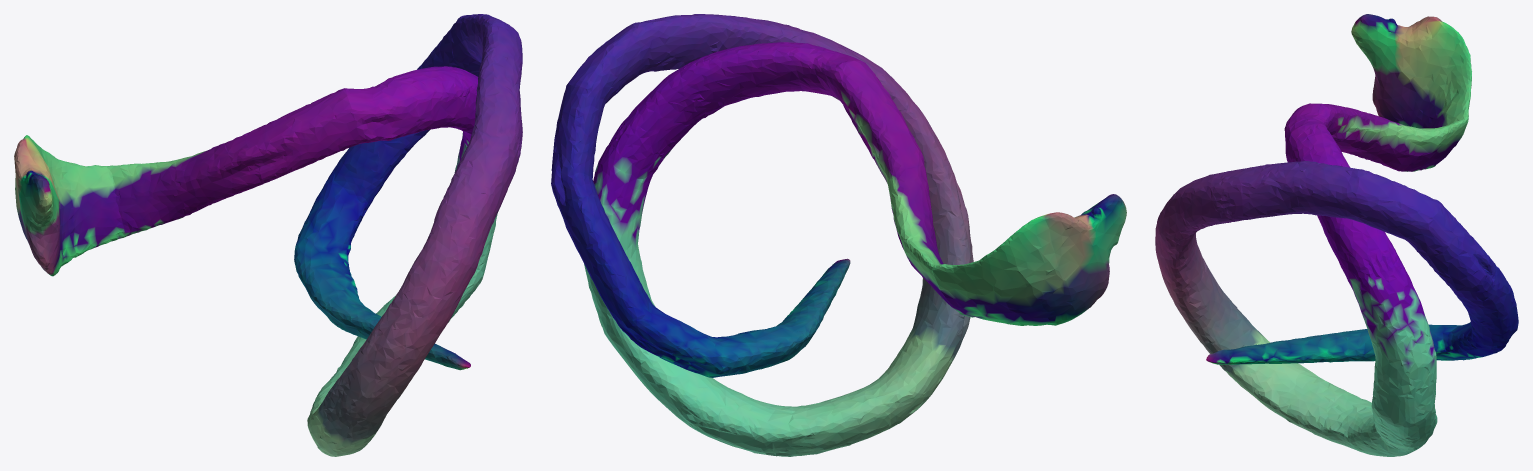
The model's file is snake-12.off.obj.
3 renders of one model, left to right at view 1: azimuth 30°, elevation 25°; view 2: azimuth 150°, elevation 25°; view 3: azimuth 270°, elevation 25°, orthographic. The views are drawn at different scales.
Size of the model in its own units: 1.36 by 0.9792 by 0.9419.
